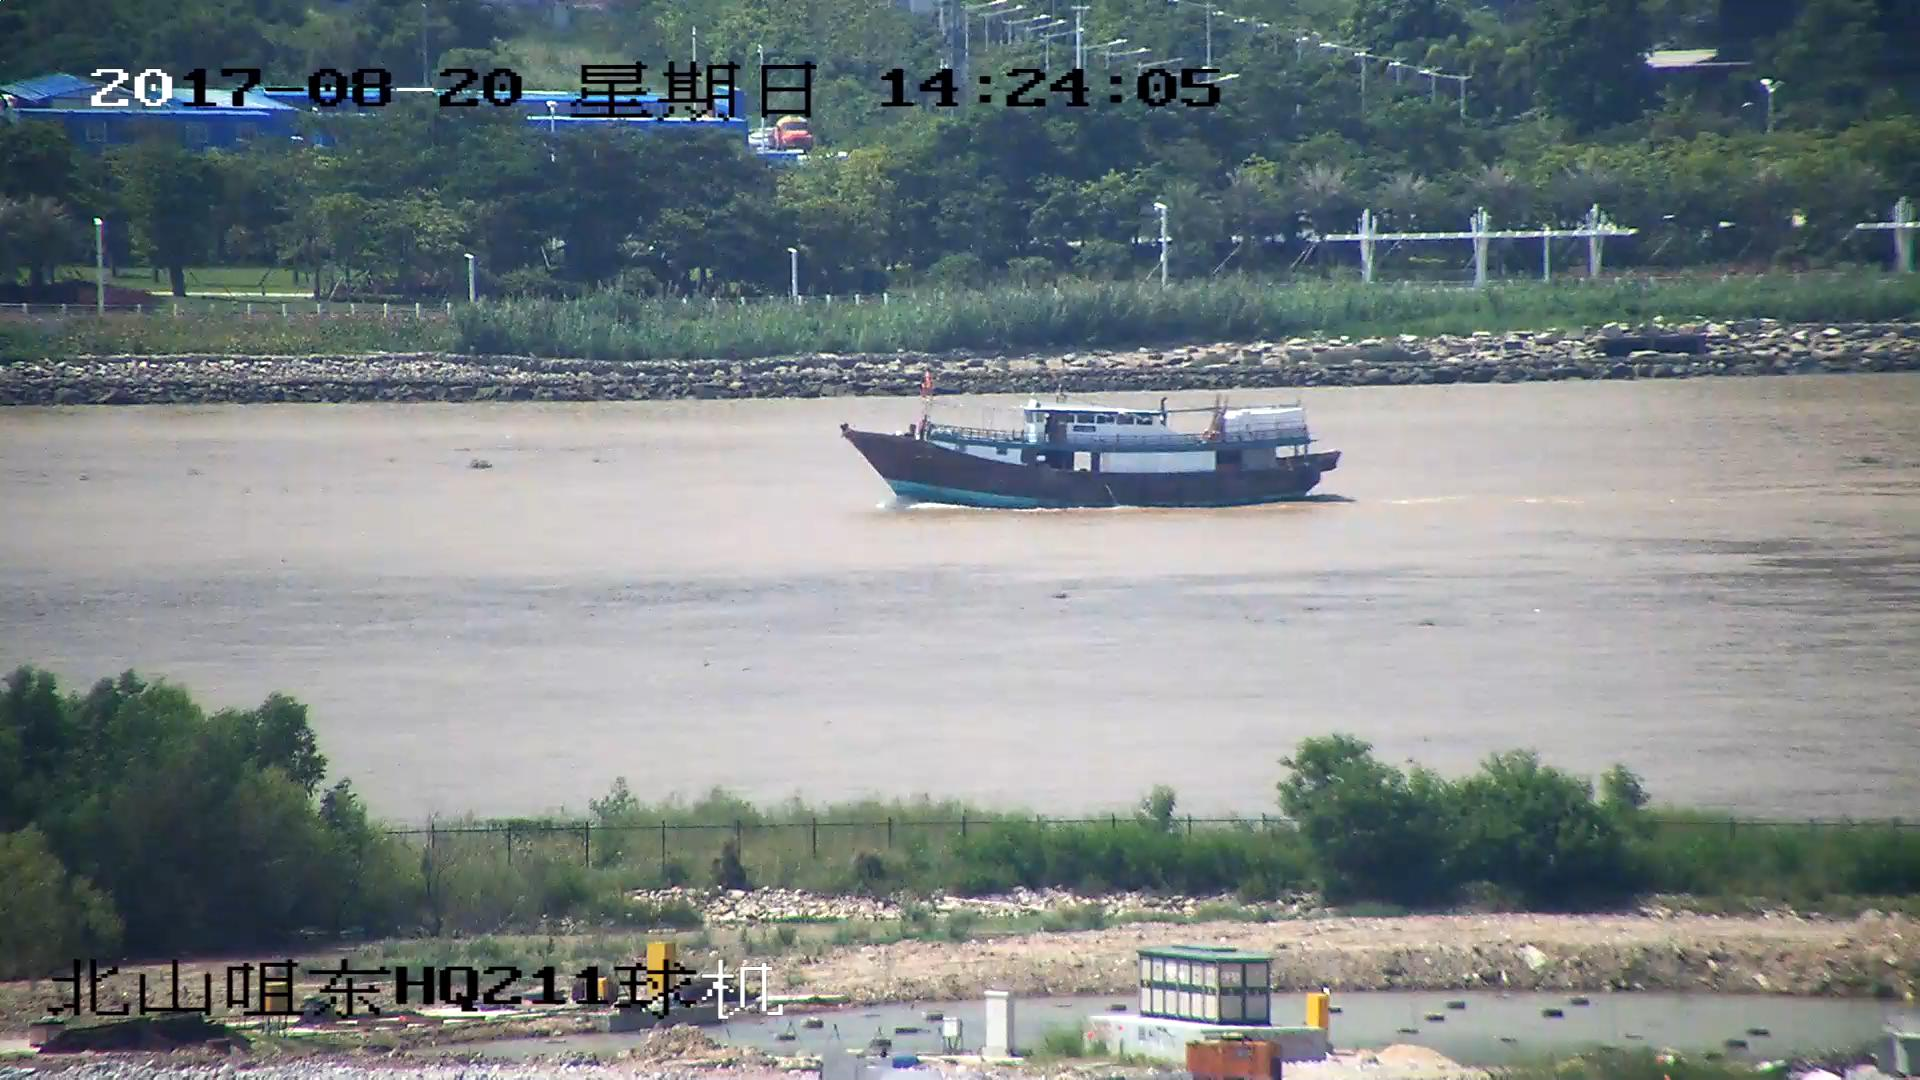fishing boat: (838, 395, 1345, 509)
